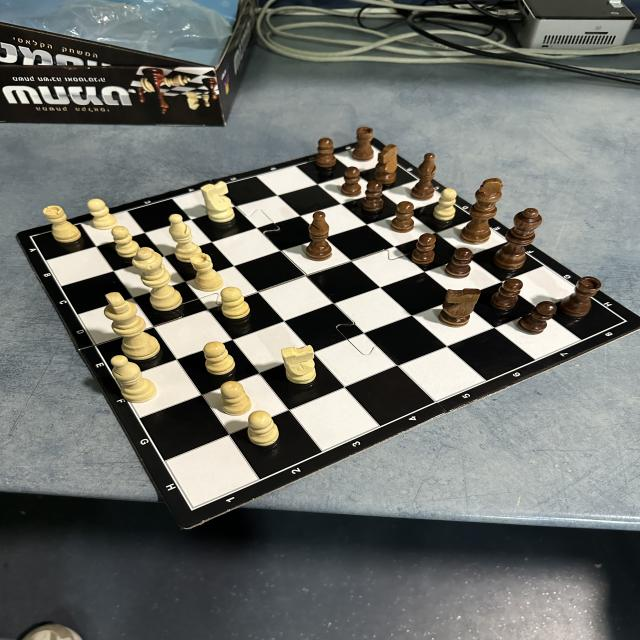Black-Bishop: (411, 153, 436, 200), (307, 212, 331, 260)
Black-King: (460, 177, 503, 244)
Black-Knight: (440, 288, 480, 327), (373, 144, 397, 184)
Black-Pawn: (518, 301, 556, 334), (491, 278, 523, 309), (445, 247, 473, 278), (412, 233, 436, 265), (391, 201, 414, 233), (316, 138, 336, 169), (364, 181, 383, 213), (341, 166, 360, 197)
Black-Queen: (494, 208, 542, 270)
Black-Rook: (561, 276, 602, 317), (352, 126, 374, 162)
White-Bishop: (112, 356, 156, 402), (168, 213, 204, 262)
White-King: (103, 292, 161, 360)
White-Knight: (282, 344, 316, 384), (202, 182, 234, 222)
White-Pawn: (247, 410, 279, 446), (220, 381, 252, 415), (205, 341, 236, 375), (87, 198, 118, 230), (221, 286, 249, 320), (112, 226, 140, 258), (433, 189, 457, 221)
White-Queen: (134, 248, 182, 311)
White-Rook: (43, 205, 81, 243), (192, 252, 224, 291)
